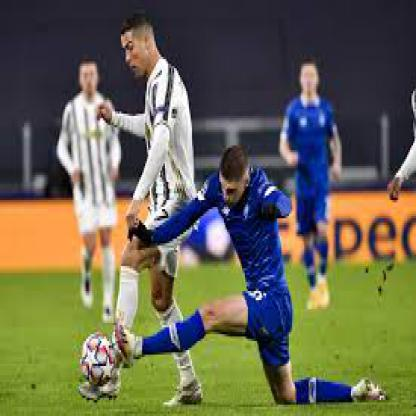Fall_Down: (114, 143, 387, 408)
